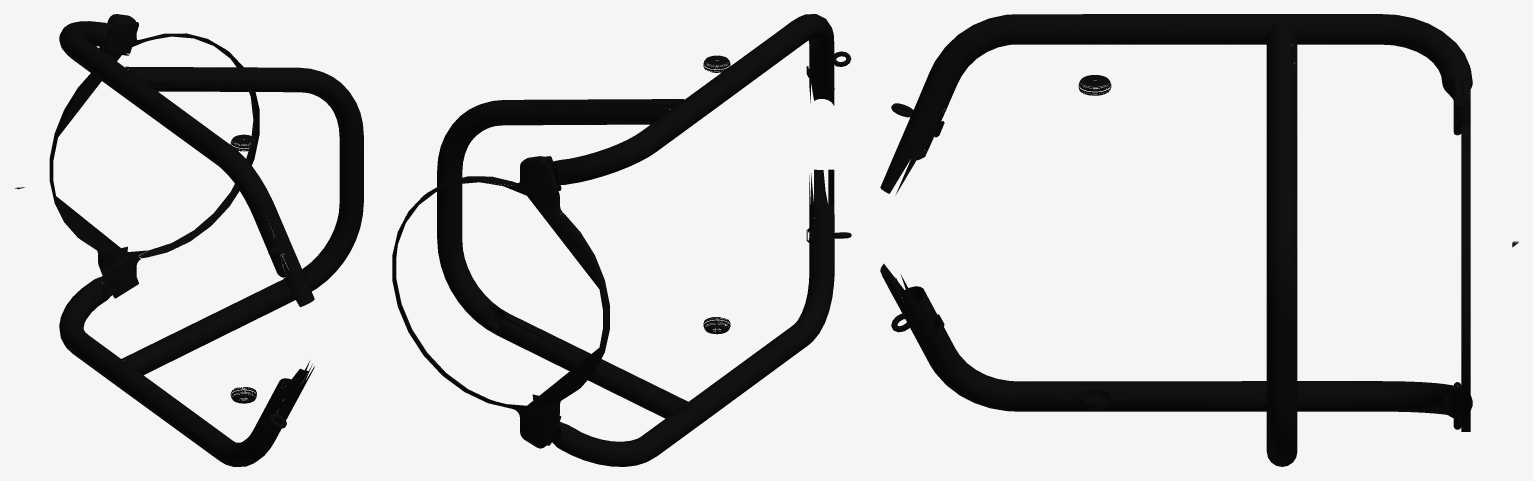
3 renders of one model, left to right at view 1: azimuth 30°, elevation 25°; view 2: azimuth 150°, elevation 25°; view 3: azimuth 270°, elevation 25°, orthographic. The views are drawn at different scales.
Size of the model in its own units: 0.3784 by 0.4517 by 0.6622.
Materials: 1 (1 with a texture image).
